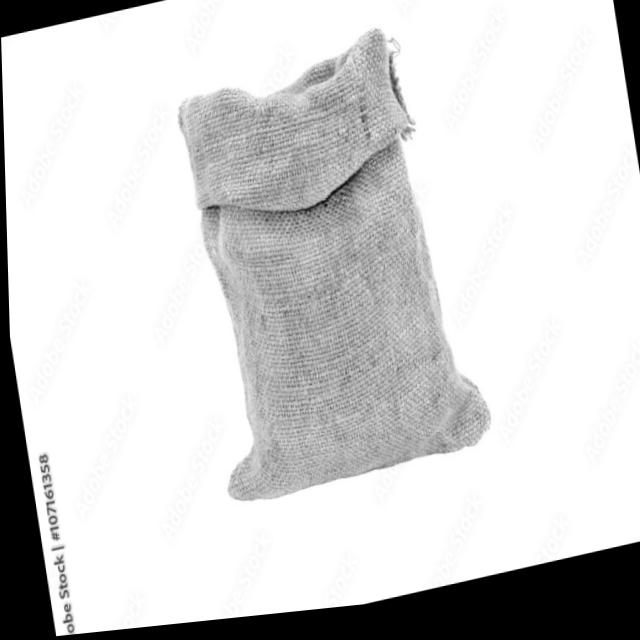sack: (160, 21, 492, 513)
